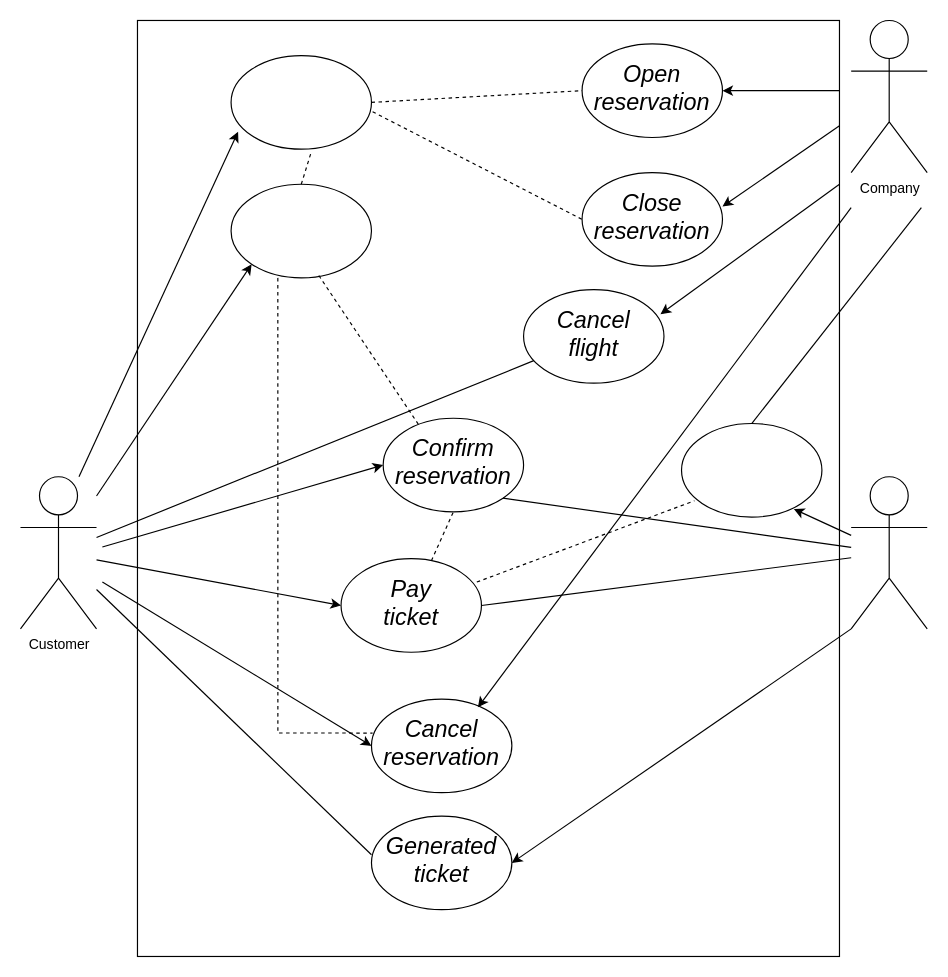
The diagram is 948 pixels wide and 977 high, and some of its shapes have lost their labels. The shapes that lost their labels are listed below. From the top down, each one's centre as x and y in pixels, then its label:
At [300,101]: "View flight".
At [300,230]: "Make reservation".
At [751,469]: "Pay fees".
At [888,552]: "Agence".
